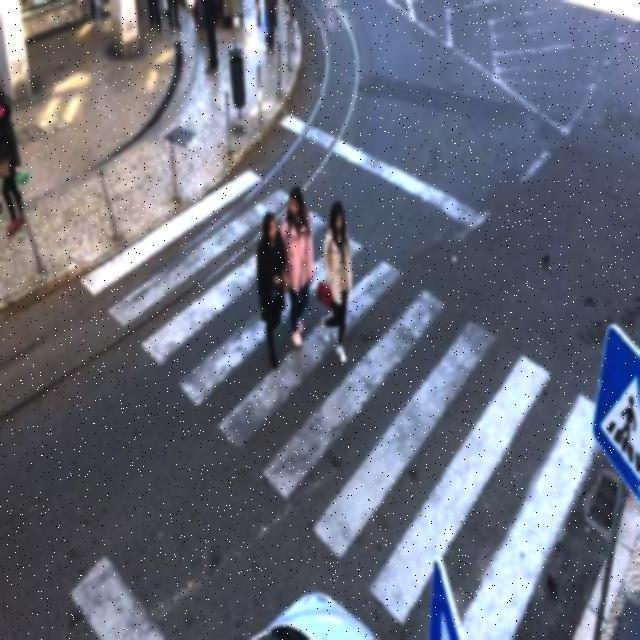crosswalk: (79, 166, 640, 640)
